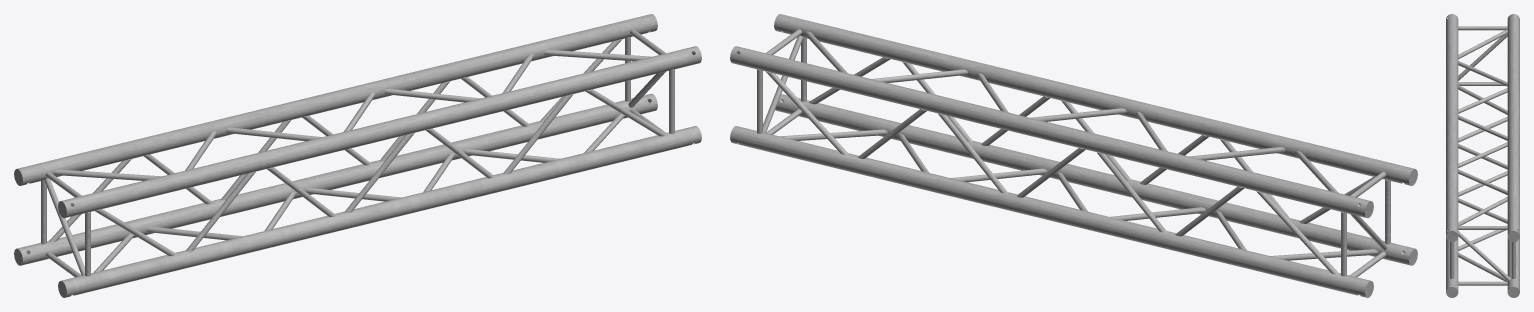
File: Milos_M290V_2000_Quattro_Truss_section-719210fa.glb
3 views of the same model, side by side, from view 1: azimuth 30°, elevation 25°; view 2: azimuth 150°, elevation 25°; view 3: azimuth 270°, elevation 25° (orthographic). The views are drawn at different scales.
Visible parts, largest first — view 1: Geom3D; view 2: Geom3D; view 3: Geom3D.
Boxes of the visible parts, x1,y1,x2,y2 form: Geom3D: [14, 14, 701, 297]; Geom3D: [730, 14, 1417, 297]; Geom3D: [1446, 14, 1519, 297].
Size of the model in its own units: 2 by 0.288 by 0.288.
Materials: 2 (1 with a texture image).
